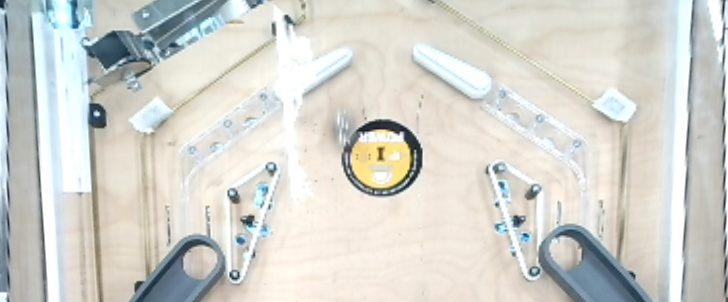ball: (319, 108, 365, 148)
flipper-left: (411, 38, 495, 106)
flipper-right: (267, 44, 358, 105)
